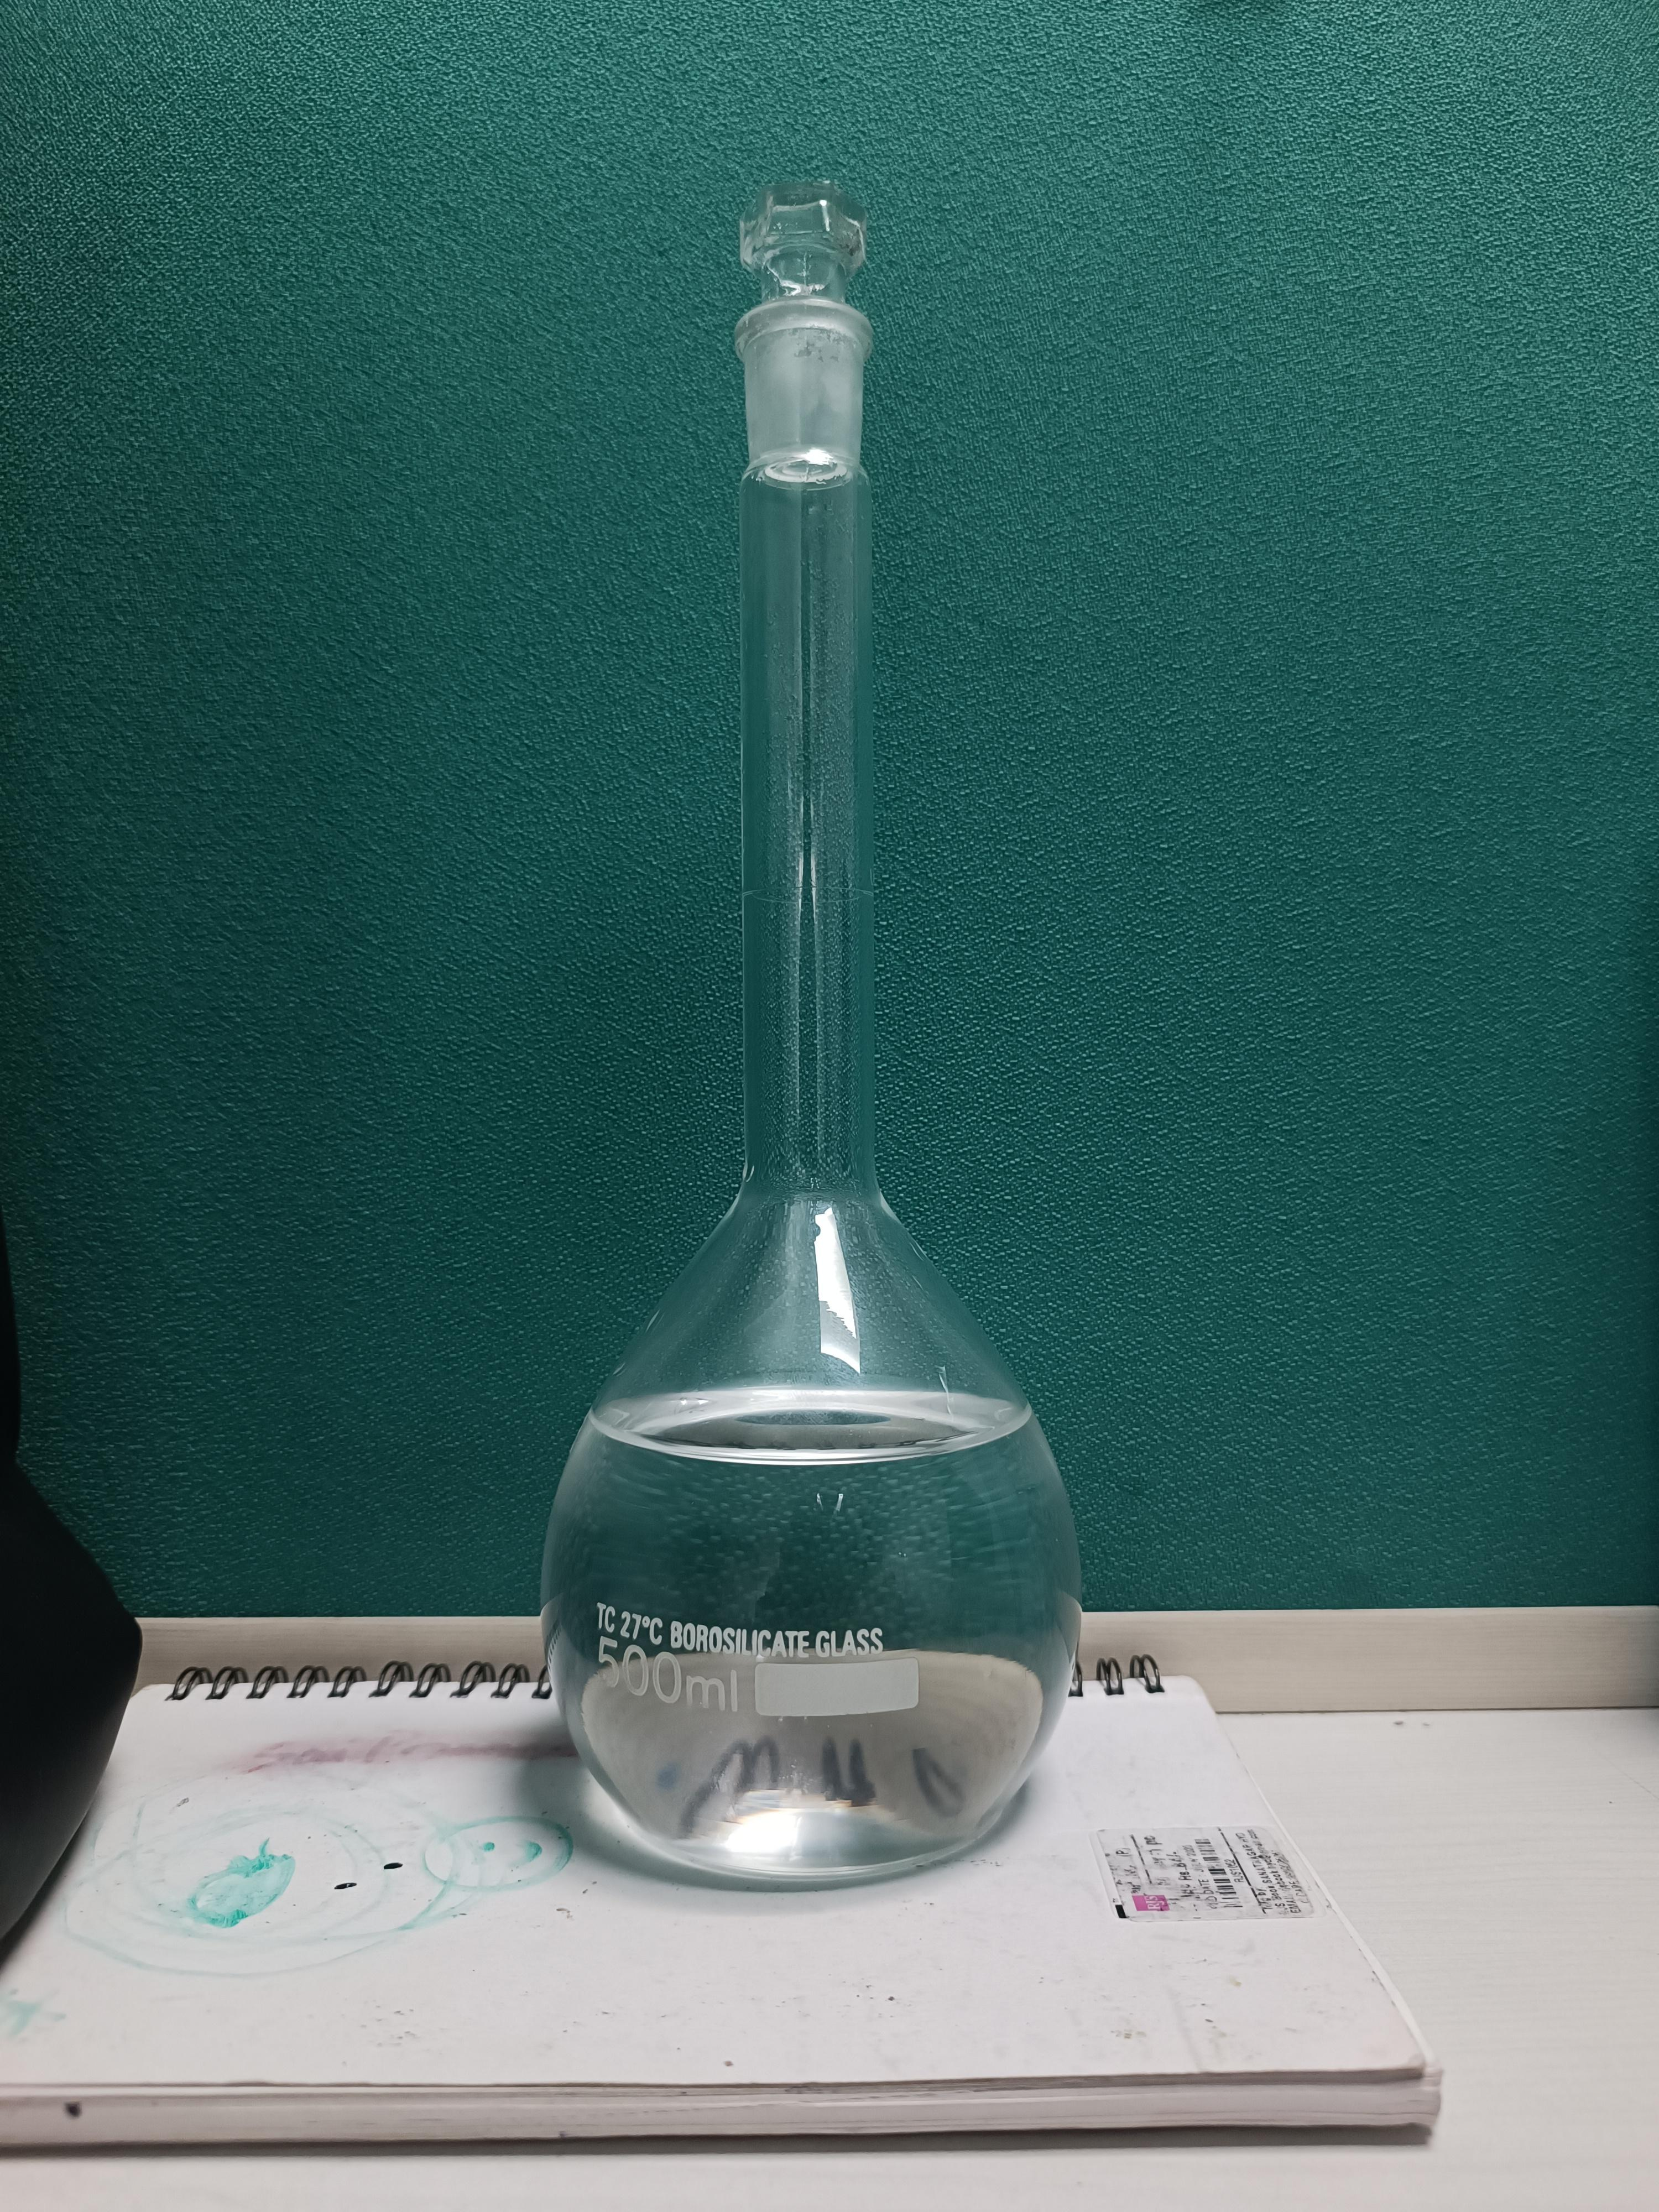Volumetric flask: (498, 143, 1107, 1892)
